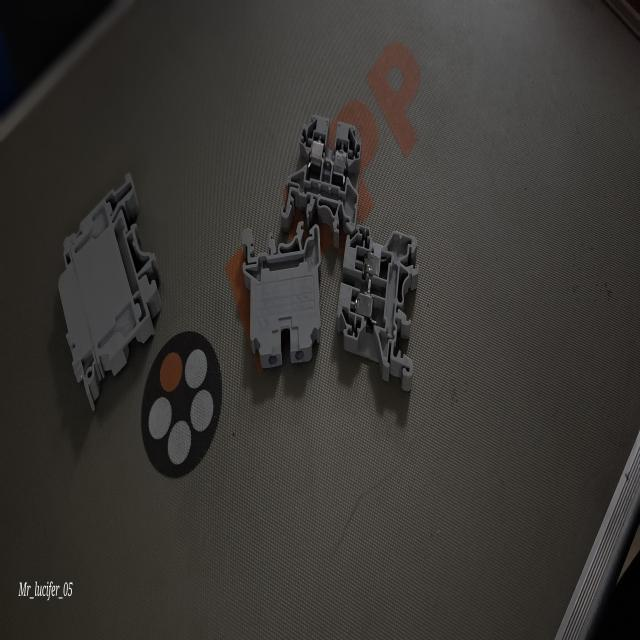Inverted: (54, 168, 161, 411), (235, 220, 322, 366)
Pass: (338, 220, 422, 397), (280, 112, 362, 240)
